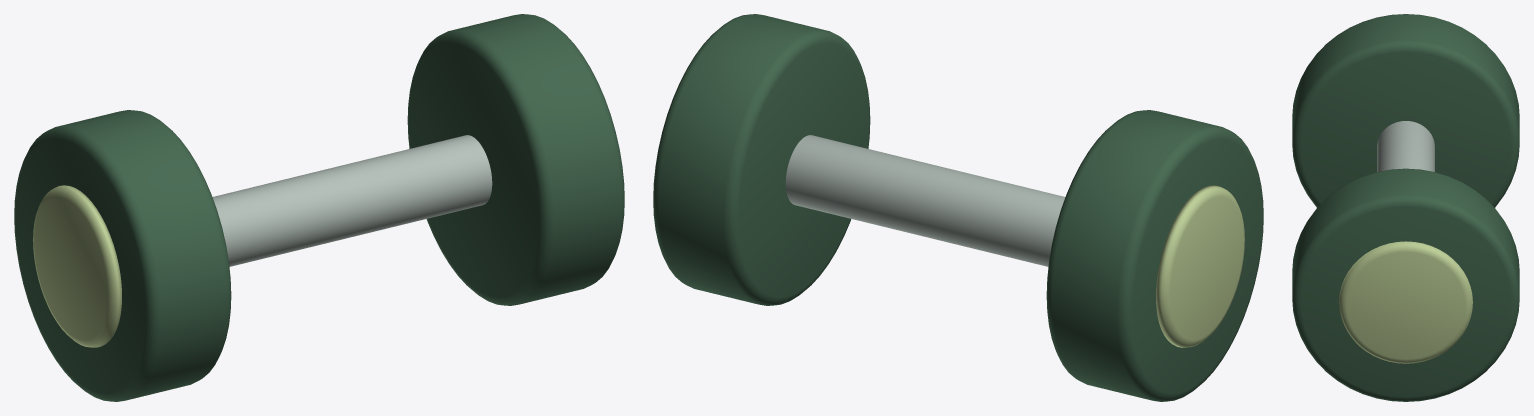
The model's file is dumbbell-green.glb.
3 views of the same model, side by side, from view 1: azimuth 30°, elevation 25°; view 2: azimuth 150°, elevation 25°; view 3: azimuth 270°, elevation 25° (orthographic). The views are drawn at different scales.
Visible parts, largest first — view 1: Weight plate.001, Weight plate, Grip, Lime endcap; view 2: Weight plate.001, Weight plate, Grip, Lime endcap; view 3: Weight plate, Weight plate.001, Lime endcap.001, Grip.
Boxes of the visible parts, x1,y1,x2,y2 form: Weight plate.001: (407,14,624,305); Weight plate: (14,110,231,401); Grip: (212,135,492,266); Lime endcap: (33,185,121,347); Weight plate.001: (653,14,870,305); Weight plate: (1046,110,1263,401); Grip: (785,135,1065,266); Lime endcap: (1156,185,1244,347); Weight plate: (1292,14,1519,207); Weight plate.001: (1292,168,1519,401); Lime endcap.001: (1339,241,1472,363); Grip: (1377,121,1434,171).
Bounding box in the file's own units: 2.07 × 1.02 × 1.02.
